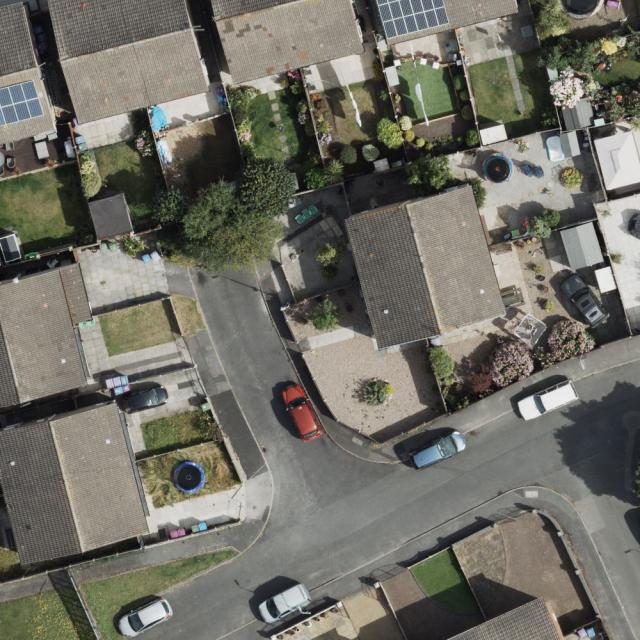roof: (346, 184, 506, 350), (0, 405, 150, 565), (48, 0, 208, 126), (0, 264, 93, 410), (210, 0, 365, 84), (0, 0, 56, 144), (375, 0, 520, 48), (447, 597, 561, 640)
solar: (378, 1, 451, 40), (0, 80, 44, 127)
